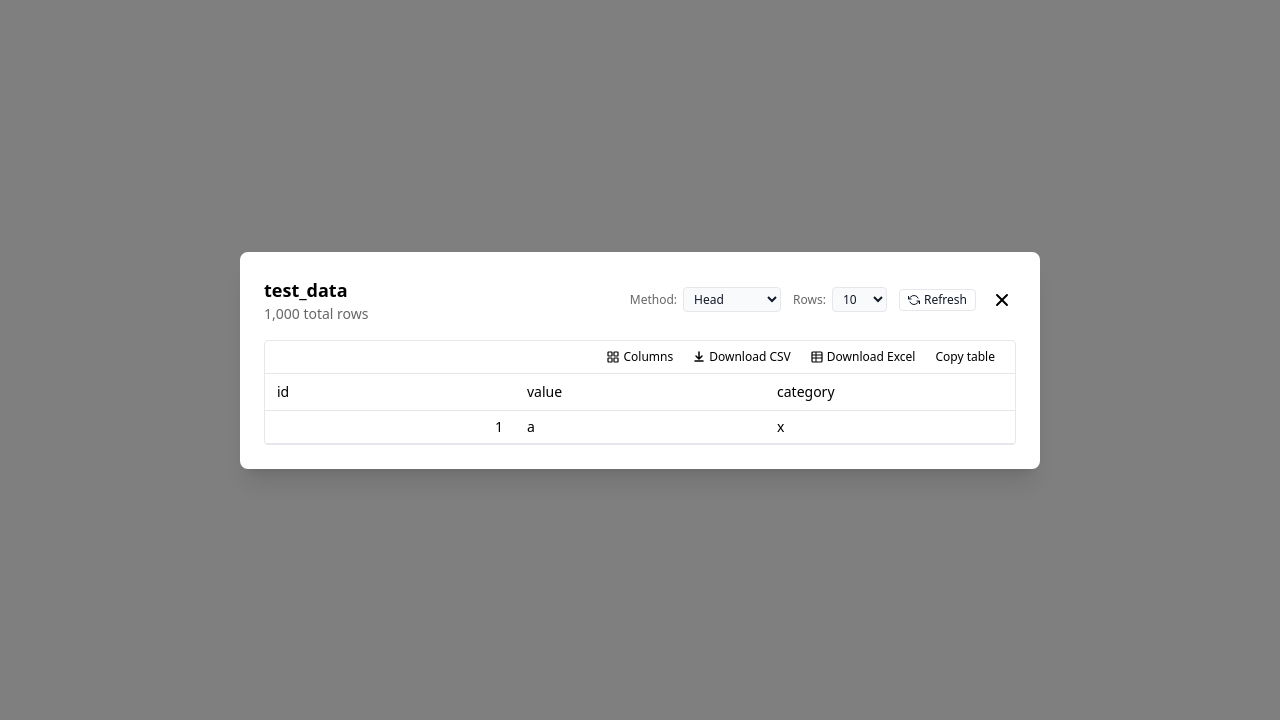
Test: PreviewModal sampling controls › shows column selector when stratified is selected
Change to stratified
Select "Stratified" in the dropdown with test id "preview-sample-method". click: (732, 300)
box: [683,287,781,312]
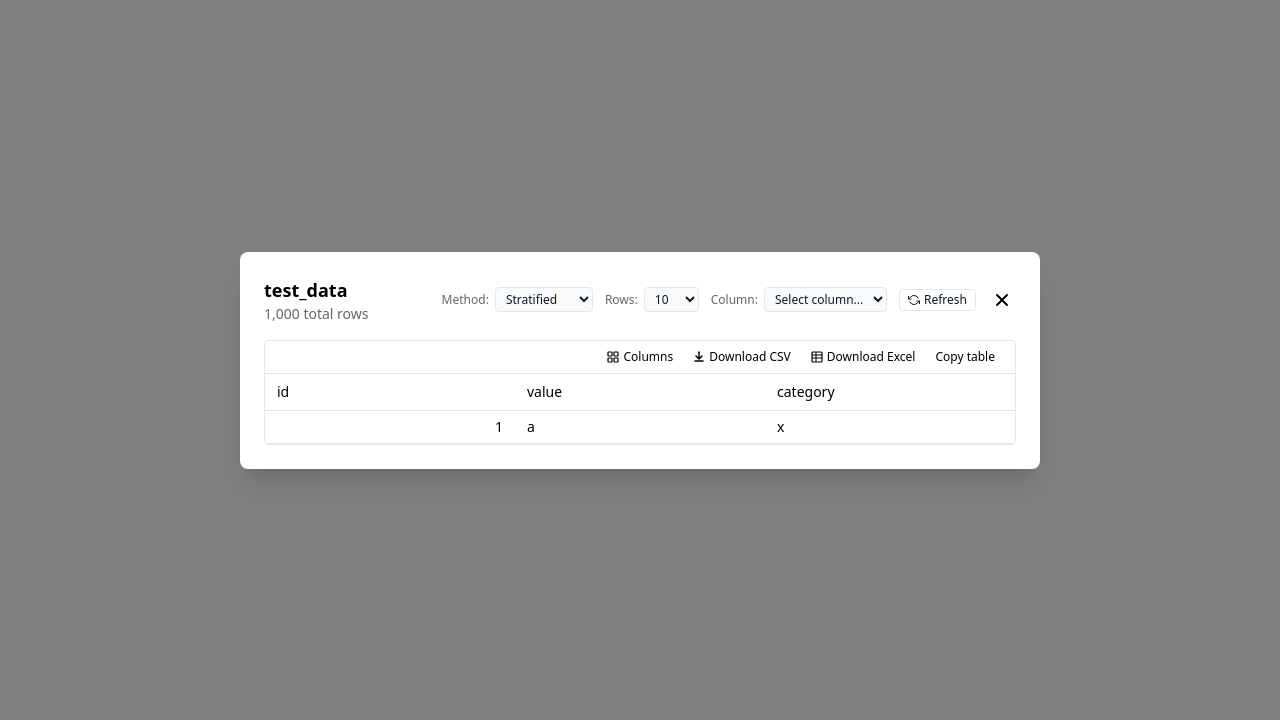
Now the dropdown with test id "preview-stratify-column" is shown, box [764,287,887,312]
